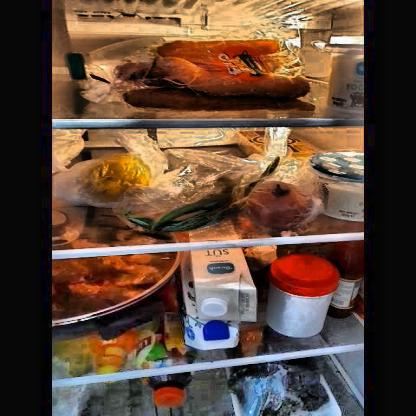broccoli: (232, 367, 329, 414)
carrot: (124, 40, 308, 111)
green_chillies: (120, 180, 246, 230)
lemon: (83, 154, 155, 200)
milk: (184, 252, 253, 350)
tomato: (247, 182, 312, 224)
yoghurt: (310, 152, 364, 221)
